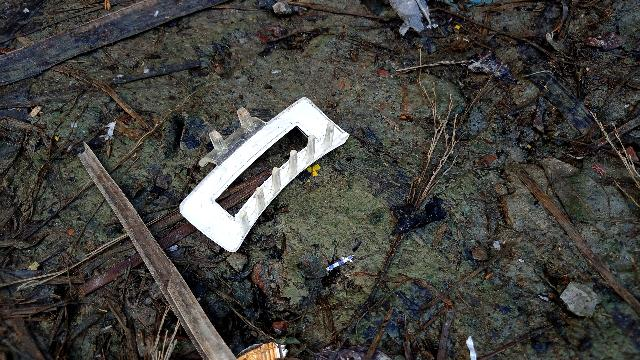hardplastic: (177, 81, 357, 257)
